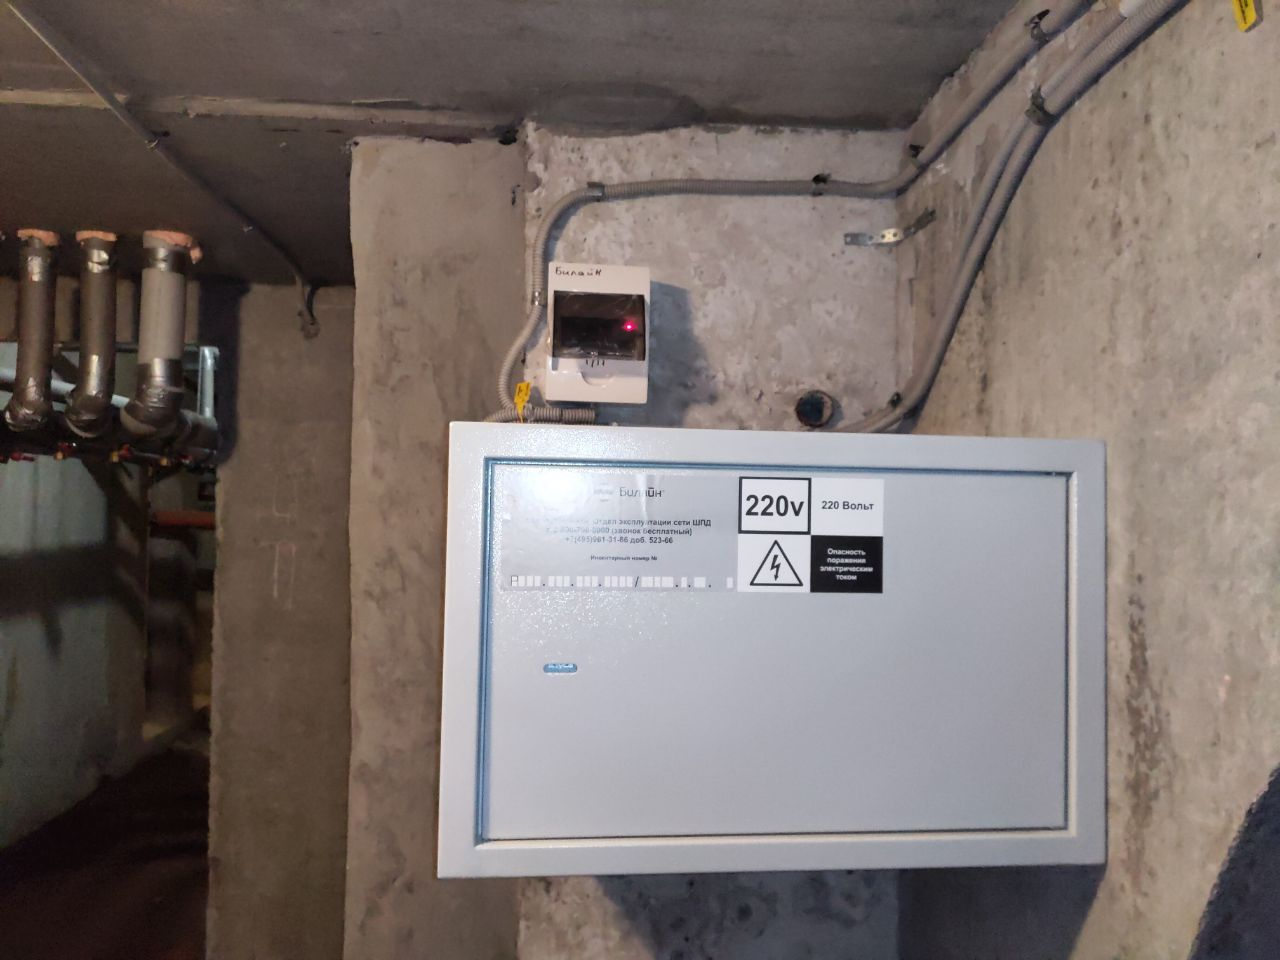shta-7m: (425, 404, 1120, 888)
